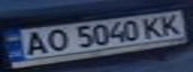0: (90, 21, 112, 47), (121, 18, 142, 42)
4: (106, 19, 127, 44)
5: (72, 24, 96, 48)
A: (18, 29, 51, 57)
K: (154, 12, 187, 36), (139, 15, 169, 39)
O: (39, 27, 72, 53)
